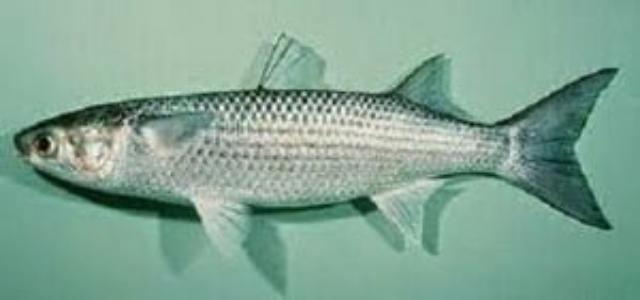Mulut: (6, 113, 38, 184)
Sirip Anal: (372, 172, 452, 250)
Sirip Dada: (137, 107, 220, 159)
Sirip Ekor: (526, 60, 626, 240)
Sirip Perut: (191, 188, 261, 260)
Sirip Punggung: (254, 24, 468, 124)
